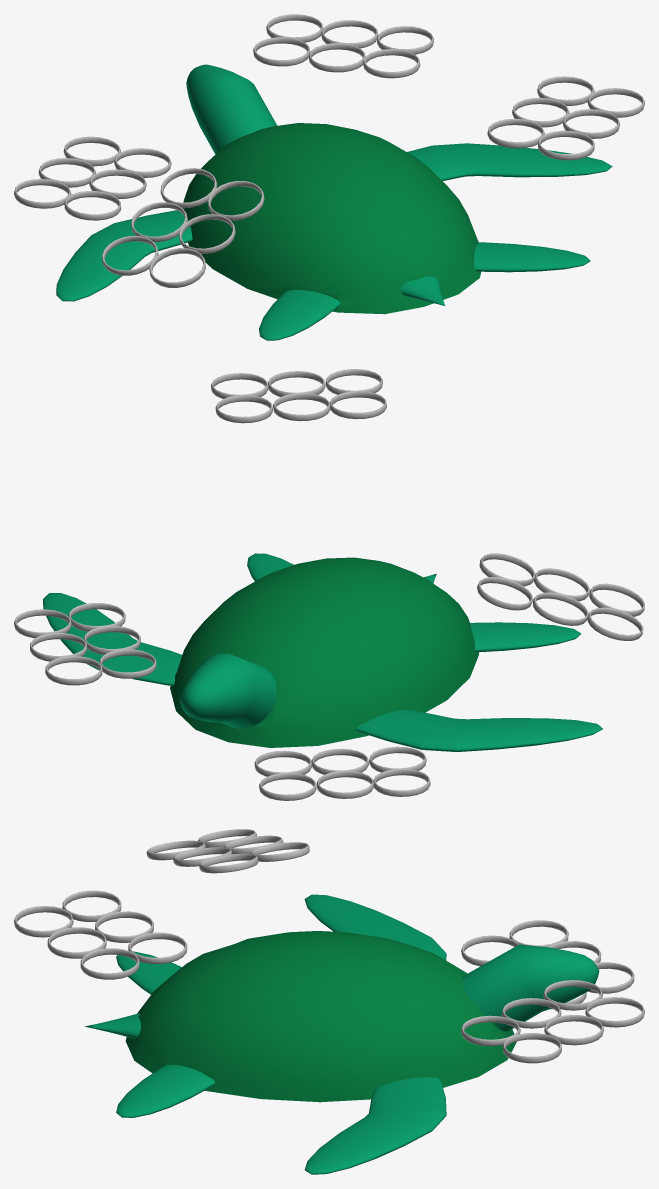
Rendered from TurtleAnimate.gltf.
3 renders of one model, top to bottom at view 1: azimuth 30°, elevation 25°; view 2: azimuth 150°, elevation 25°; view 3: azimuth 270°, elevation 25°, orthographic. The views are drawn at different scales.
Visible parts, largest first — view 1: body, left_fin, right_fin, SixRings5, SixRings4, SixRings2_group1Rings1Ring6, SixRings6, right_back, left_back; view 2: body, left_fin, SixRings6, right_fin, SixRings2_group1Rings1Ring6, SixRings4, SixRings5, left_back, right_back; view 3: body, right_fin, SixRings5, SixRings2_group1Rings1Ring6, SixRings6, left_fin, right_back, SixRings4, left_back.
Boxes of the visible parts, bbox=[...] form: body: bbox=[183, 64, 480, 314]; left_fin: bbox=[56, 210, 192, 301]; right_fin: bbox=[407, 143, 612, 180]; SixRings5: bbox=[253, 14, 433, 78]; SixRings4: bbox=[14, 136, 171, 220]; SixRings2_group1Rings1Ring6: bbox=[487, 76, 644, 160]; SixRings6: bbox=[102, 168, 264, 287]; right_back: bbox=[474, 242, 590, 272]; left_back: bbox=[259, 290, 340, 340]; body: bbox=[170, 557, 478, 747]; left_fin: bbox=[355, 709, 602, 751]; SixRings6: bbox=[477, 553, 644, 640]; right_fin: bbox=[43, 593, 182, 685]; SixRings2_group1Rings1Ring6: bbox=[211, 369, 386, 423]; SixRings4: bbox=[254, 746, 430, 800]; SixRings5: bbox=[14, 603, 156, 685]; left_back: bbox=[470, 622, 581, 652]; right_back: bbox=[247, 553, 293, 581]; body: bbox=[85, 931, 599, 1102]; right_fin: bbox=[304, 1077, 446, 1174]; SixRings5: bbox=[461, 980, 644, 1063]; SixRings2_group1Rings1Ring6: bbox=[14, 890, 187, 979]; SixRings6: bbox=[146, 829, 309, 873]; left_fin: bbox=[304, 894, 446, 960]; right_back: bbox=[116, 1065, 214, 1117]; SixRings4: bbox=[461, 920, 634, 1009]; left_back: bbox=[116, 951, 181, 994].
Bounding box in the file's own units: 0.1688 × 0.05 × 0.1612.
